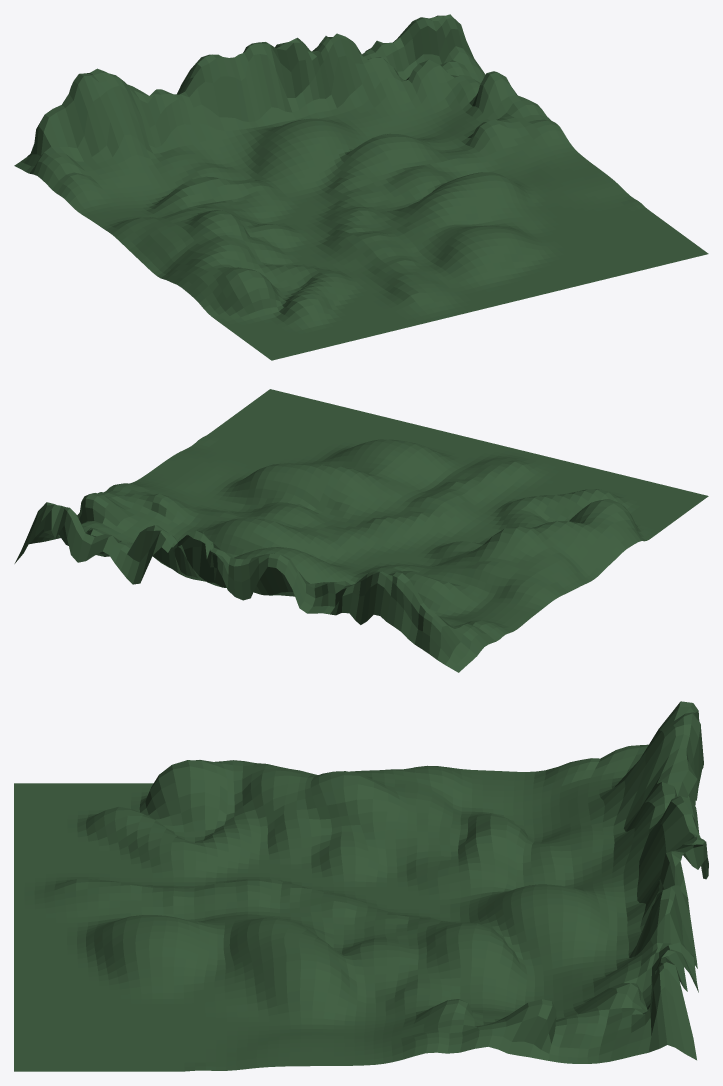
Rendered from Land.fbx.
The picture shows the model from 3 angles, top to bottom: view 1: azimuth 30°, elevation 25°; view 2: azimuth 150°, elevation 25°; view 3: azimuth 270°, elevation 25°; orthographic projection. The views are drawn at different scales.
Parts seen in each view (by area): view 1: Plane; view 2: Plane; view 3: Plane.
Part boxes in pixels (<box>): Plane: <box>14,14,708,360</box>; Plane: <box>14,389,708,672</box>; Plane: <box>14,701,708,1071</box>.
Size of the model in its own units: 1773 by 339 by 1766.
